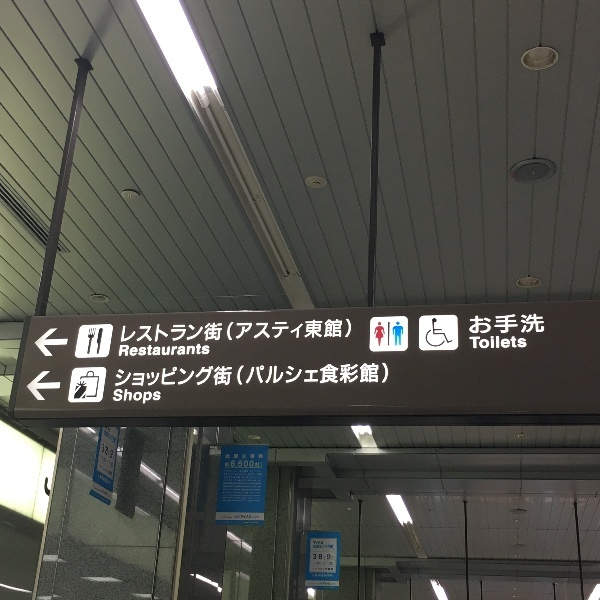text: (129, 317, 144, 345), (145, 317, 160, 345), (161, 317, 176, 345), (177, 317, 192, 345), (193, 317, 208, 345), (209, 317, 224, 345), (225, 317, 240, 345), (241, 317, 256, 345), (257, 317, 272, 345), (273, 317, 288, 345), (289, 317, 304, 345), (305, 317, 320, 345), (321, 317, 336, 345), (337, 317, 352, 345), (481, 311, 496, 339), (497, 311, 512, 339), (513, 311, 528, 339), (529, 311, 544, 339), (129, 361, 144, 388), (145, 361, 160, 388), (161, 361, 176, 388), (177, 361, 192, 388), (193, 361, 208, 388), (209, 361, 224, 388), (225, 361, 240, 388), (241, 361, 256, 388), (257, 361, 272, 388), (273, 361, 288, 388), (289, 361, 304, 388), (305, 361, 320, 388), (321, 361, 336, 388), (337, 361, 352, 388), (353, 361, 368, 388), (369, 361, 384, 388), (513, 331, 529, 353), (468, 311, 480, 339), (481, 331, 496, 353), (497, 331, 512, 353), (116, 361, 128, 388), (129, 388, 144, 406), (145, 388, 160, 406), (114, 388, 128, 406), (129, 342, 144, 358), (145, 342, 160, 358), (161, 342, 176, 358), (177, 342, 192, 358), (193, 342, 208, 358), (471, 331, 480, 353), (102, 443, 112, 460), (101, 455, 112, 469), (119, 342, 128, 358), (100, 464, 112, 476), (123, 317, 128, 345), (104, 430, 112, 447), (385, 361, 390, 388), (321, 553, 335, 561), (99, 473, 112, 481), (241, 460, 254, 468), (225, 462, 240, 468), (545, 311, 548, 339), (225, 454, 240, 459), (241, 454, 256, 459), (241, 514, 256, 519), (231, 460, 240, 468), (261, 462, 272, 468), (225, 482, 240, 486), (241, 482, 256, 486), (225, 488, 240, 492), (241, 488, 256, 492), (225, 494, 240, 498), (241, 494, 256, 498), (313, 553, 320, 561), (321, 567, 334, 571), (321, 574, 334, 578), (113, 430, 116, 447), (105, 427, 112, 434), (209, 342, 212, 358), (225, 470, 240, 473), (241, 470, 256, 473), (225, 473, 240, 476), (241, 473, 256, 476), (225, 476, 240, 479), (241, 476, 256, 479), (225, 479, 240, 482), (241, 479, 256, 482), (225, 485, 240, 488), (241, 485, 256, 488), (225, 492, 240, 495), (241, 492, 256, 495), (225, 497, 240, 500), (241, 497, 256, 500), (225, 500, 240, 503), (241, 500, 256, 503), (321, 562, 334, 565), (323, 582, 336, 585), (161, 388, 163, 406), (257, 454, 264, 459), (113, 443, 115, 460), (321, 545, 329, 549), (312, 574, 320, 578), (313, 541, 320, 545), (313, 545, 320, 549), (313, 567, 320, 571), (225, 516, 233, 519), (309, 583, 320, 585), (257, 461, 260, 468), (313, 562, 320, 565), (257, 482, 262, 486), (257, 470, 263, 473), (257, 473, 263, 476), (257, 494, 261, 498), (257, 485, 262, 488), (113, 455, 114, 469), (257, 476, 261, 479), (252, 516, 256, 519), (257, 479, 261, 482), (257, 488, 260, 492), (257, 492, 261, 495), (321, 541, 324, 545), (221, 516, 224, 519), (257, 516, 260, 519), (257, 497, 260, 500), (257, 500, 260, 503), (255, 461, 256, 468), (222, 497, 224, 500), (222, 500, 224, 503), (223, 488, 224, 492), (223, 494, 224, 498), (223, 485, 224, 488), (223, 492, 224, 495)
